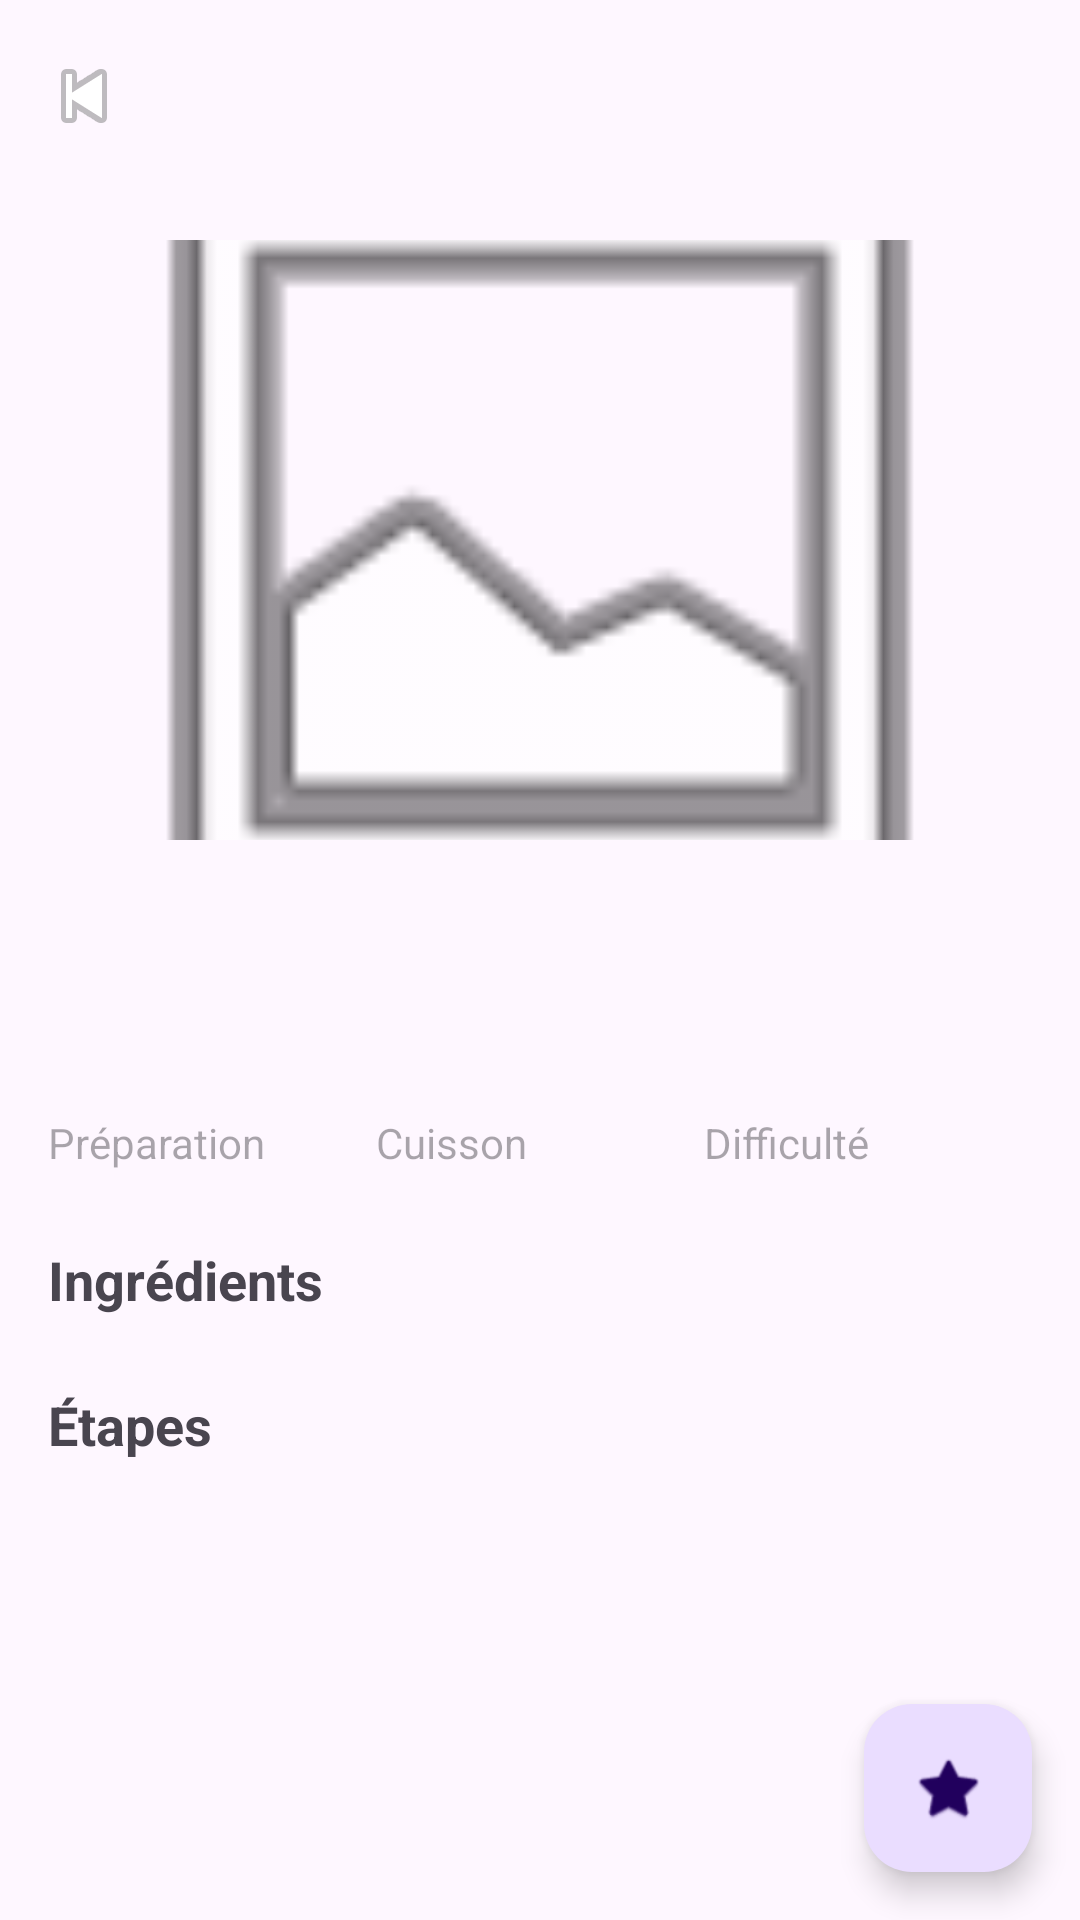

Where to tap for icons on this 1080x1920 app screen, as point (x, y):
Ajouter aux favoris: point (948, 1788)
